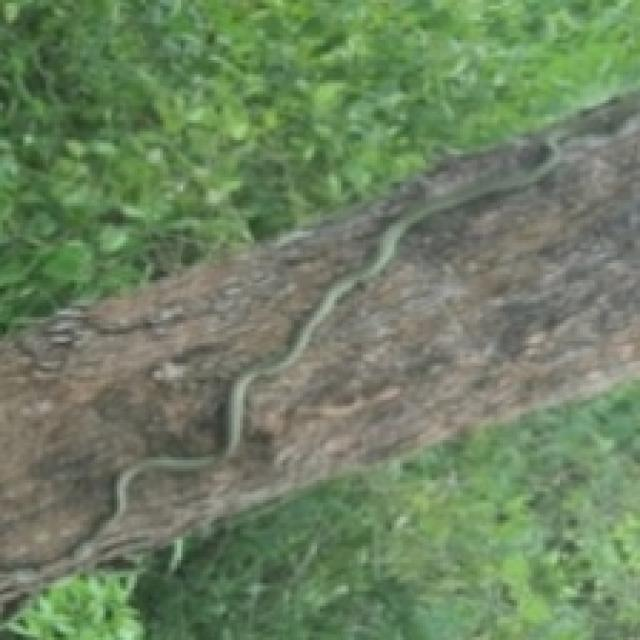paradise tree snake: (74, 138, 562, 564)
